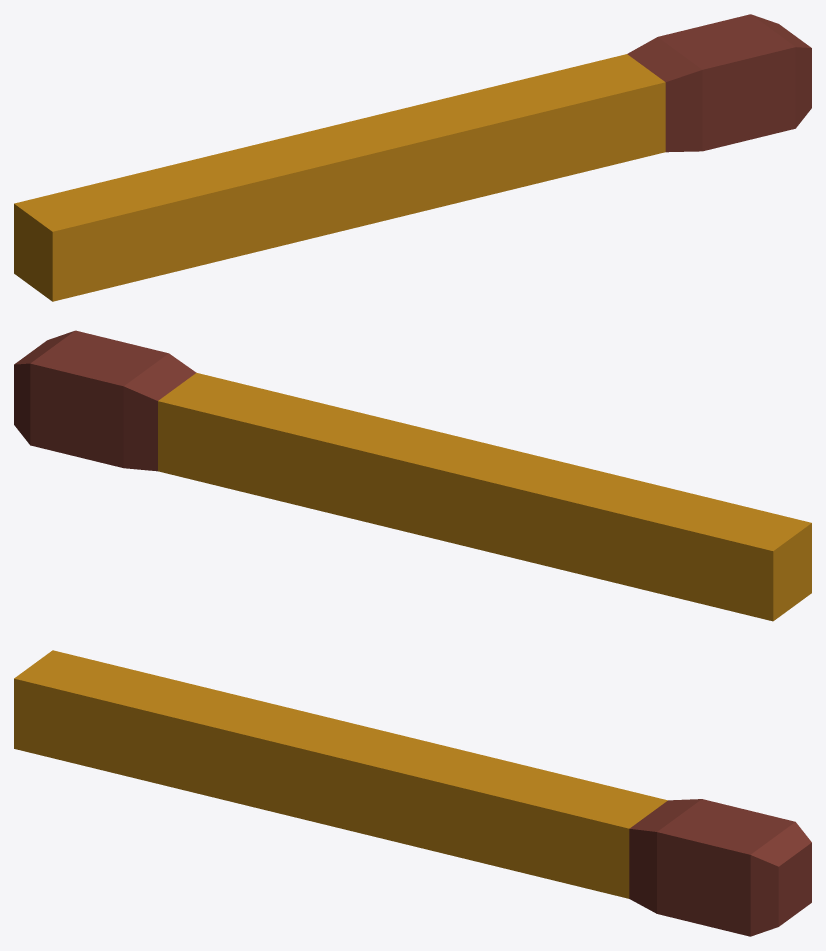
File: match01.gltf
3 renders of one model, top to bottom at view 1: azimuth 30°, elevation 25°; view 2: azimuth 150°, elevation 25°; view 3: azimuth 330°, elevation 25°, orthographic.
Visible parts, largest first — view 1: Cube.001; view 2: Cube.001; view 3: Cube.001.
Boxes of the visible parts, left/top/right/bottom form: Cube.001: left=14, top=14, right=811, bottom=301; Cube.001: left=14, top=330, right=811, bottom=621; Cube.001: left=14, top=650, right=811, bottom=936.
Size of the model in its own units: 0.0591 by 0.00605 by 0.00605.
1 material, 1 textured.
